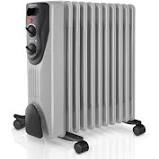Radiator: (12, 1, 146, 155)
